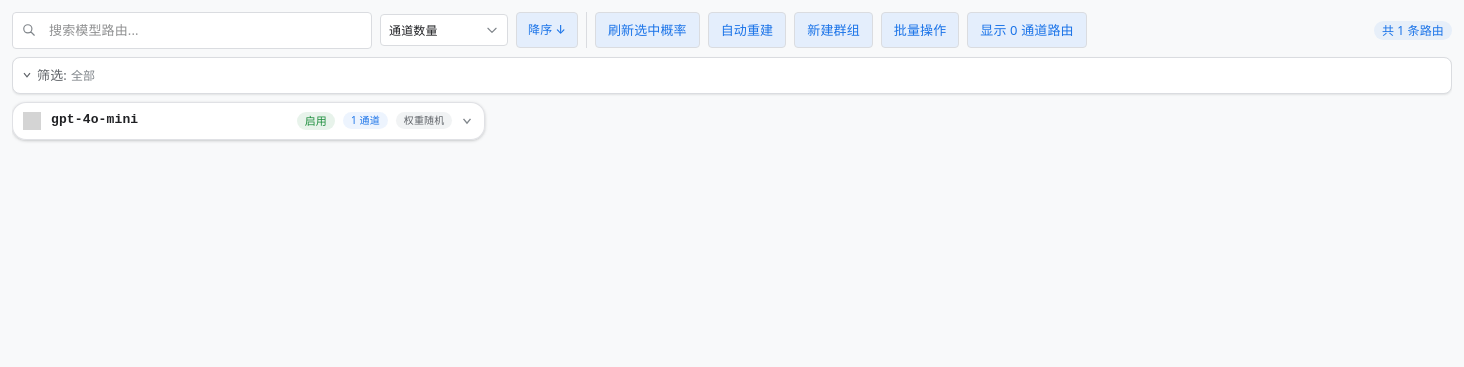
Test: TokenRoutes grouped source models › falls back to site platform endpoint grouping when endpoint metadata cache is empty
This screenshot has width=1464, height=367.
Click the button "筛选: 全部".
click(27, 75)  # box [13, 58, 1451, 93]
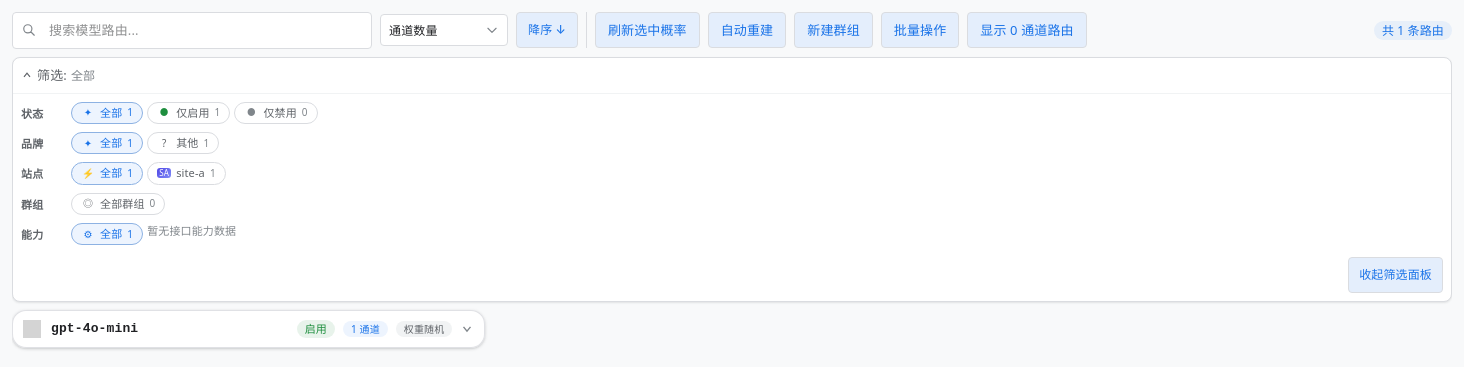
Expected: the text "能力" is shown, [21, 227, 44, 242]
